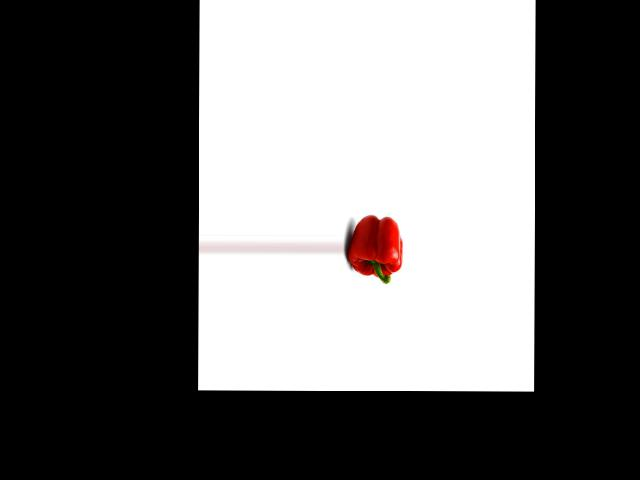bell_pepper: (348, 209, 402, 287)
